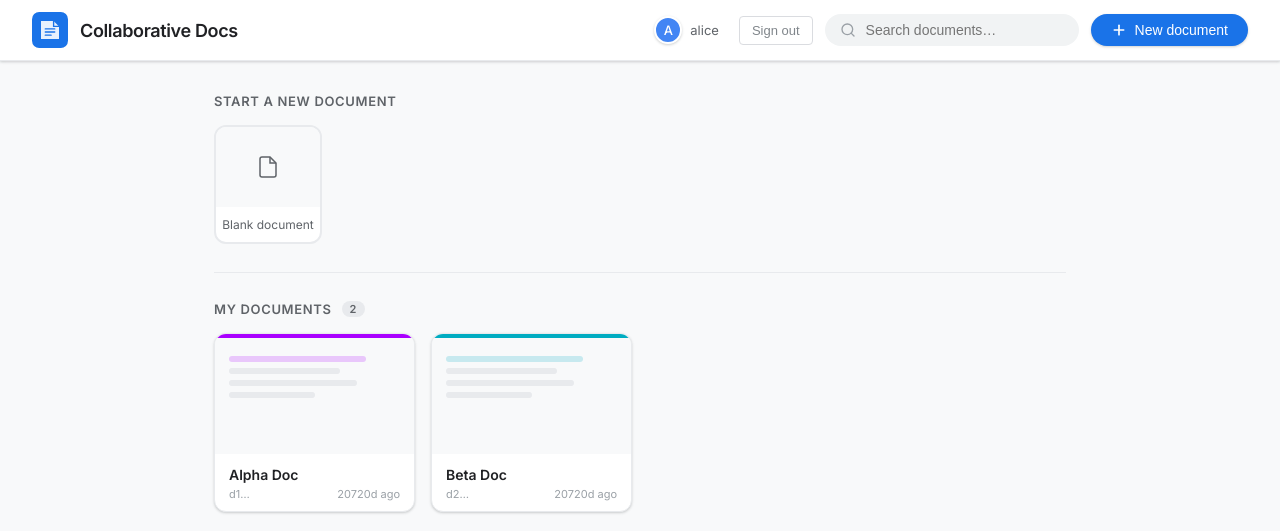
Test case: DocsPage › filters documents by search query
Expected: the text "Alpha Doc" is shown, [229,466,298,483]
Expected: the text "Beta Doc" is shown, [446,466,507,483]
Type "Alpha" into the search field with placeholder "Search documents…" at x=964, y=30, box [864,21,1064,39]
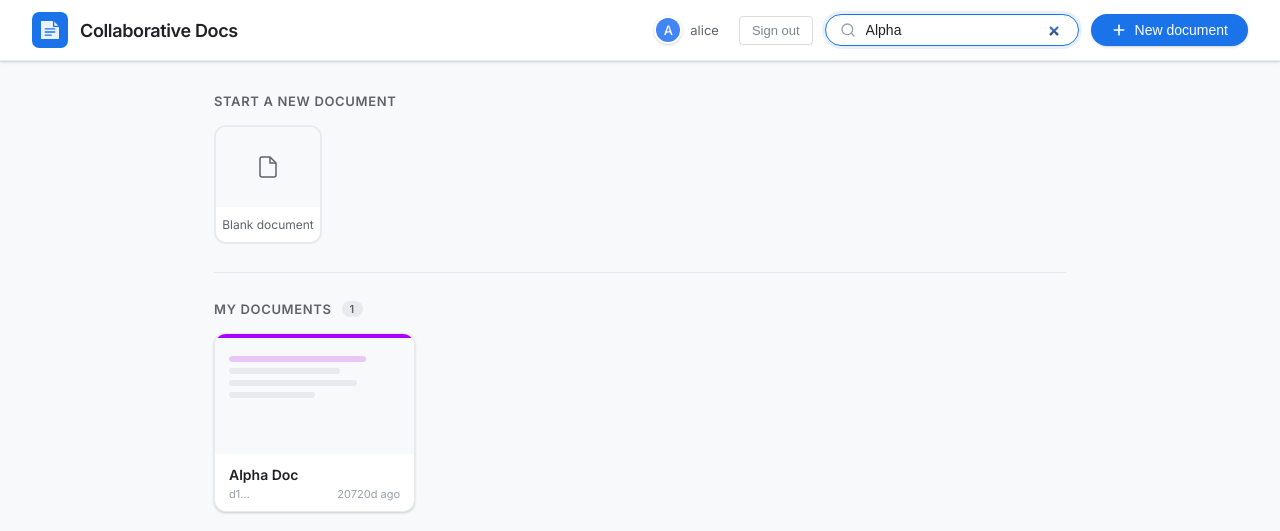
Expected: the text "Alpha Doc" is shown, [229,466,298,483]
Result: the text "Beta Doc" is gone
